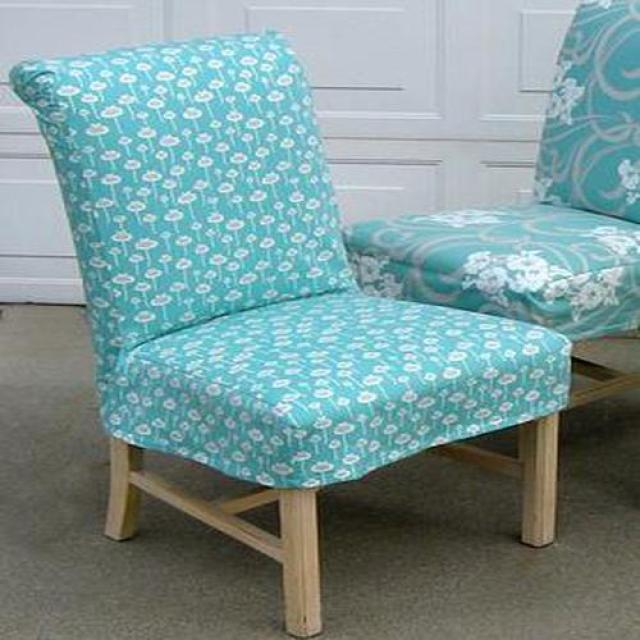chair: (8, 29, 572, 640)
